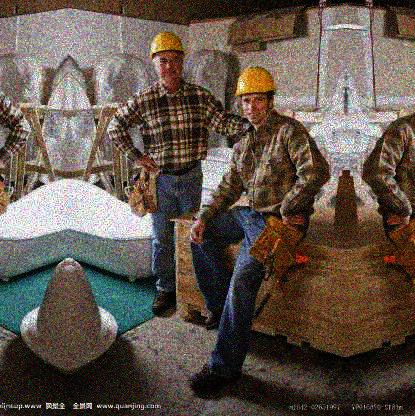helmet: (234, 66, 278, 124), (149, 30, 186, 79)
